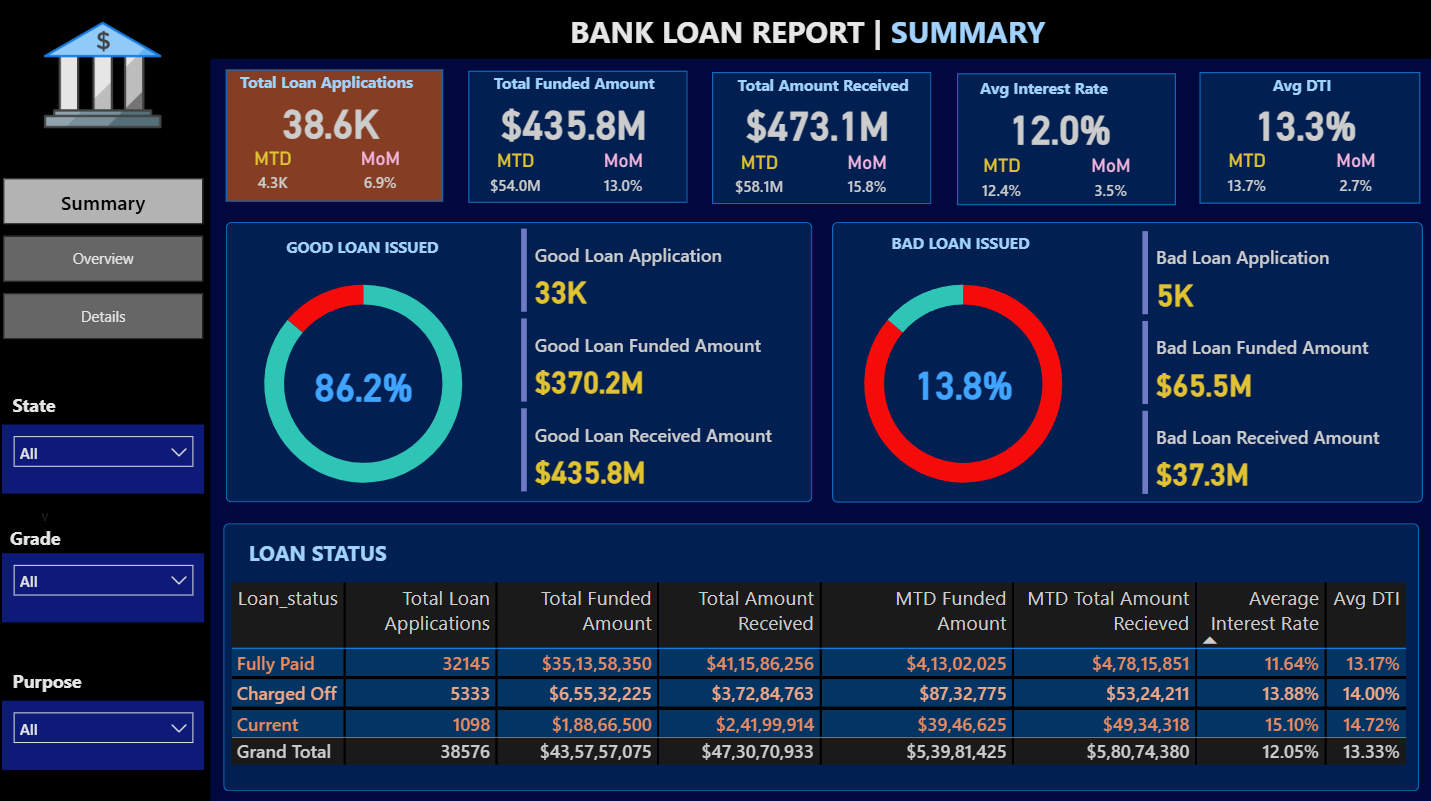

The dashboard page shown, as its layout file describes it:
{"tool":"powerbi","page":{"name":"Summary","canvas":[1280,720],"ordinal":0},"visuals":[{"type":"shape","box":[203.8,64.6,193.8,117.8],"z":0,"group":"g1"},{"type":"shape","box":[419.5,66.3,195.4,117.7],"z":0,"group":"g2"},{"type":"shape","box":[636.6,67.7,195.4,117.7],"z":0,"group":"g3"},{"type":"shape","box":[1071.3,67.7,196.6,117.3],"z":0,"group":"g5"},{"type":"shape","box":[854.5,68.5,195,117.5],"z":0,"group":"g4"},{"type":"shape","box":[203.9,200.3,522.4,249.7],"z":0},{"type":"card","fields":{"Values":["bank_loan_data.Total Loan Applications"]},"box":[227.1,80,140.2,60.1],"z":1000,"group":"g1"},{"type":"card","fields":{"Values":["bank_loan_data.Total Funded Amount"]},"box":[443,81.7,141.4,60],"z":1000,"group":"g2"},{"type":"card","fields":{"Values":["bank_loan_data.Avg DTI"]},"box":[1094.9,83,142.3,59.8],"z":1000,"group":"g5"},{"type":"card","fields":{"Values":["bank_loan_data.Total Amount Received"]},"box":[660.1,83.1,141.4,60],"z":1000,"group":"g3"},{"type":"card","fields":{"Values":["bank_loan_data.Average Interest Rate"]},"box":[876.2,86,141.4,60],"z":1000,"group":"g4"},{"type":"donutChart","fields":{"Category":["bank_loan_data.Good vs Bad Loan"],"Y":["bank_loan_data.Total Loan Applications"]},"box":[201.5,229.2,249.7,230.4],"z":1000},{"type":"shape","box":[0,0,1280,55],"z":2000},{"type":"textbox","box":[211.5,61.2,172.3,35],"z":2000,"group":"g1"},{"type":"textbox","box":[437.4,62.5,173.8,35.4],"z":2000,"group":"g2"},{"type":"textbox","box":[654.5,63.9,173.8,35.4],"z":2000,"group":"g3"},{"type":"textbox","box":[1089.3,63.9,175,35.3],"z":2000,"group":"g5"},{"type":"textbox","box":[870.6,66.8,173.8,35.4],"z":2000,"group":"g4"},{"type":"card","title":"MTD","fields":{"Values":["bank_loan_data.MTD Loan Applications"]},"box":[211.5,133.8,68.2,45],"z":3000,"group":"g1"},{"type":"card","title":"MTD","fields":{"Values":["bank_loan_data.MTD Funded Amount"]},"box":[427.3,135.4,68.8,45],"z":3000,"group":"g2"},{"type":"card","title":"MTD","fields":{"Values":["bank_loan_data.MTD Avg DTI"]},"box":[1079.1,136.6,69.2,44.8],"z":3000,"group":"g5"},{"type":"card","title":"MTD","fields":{"Values":["bank_loan_data.MTD Total Amount Recieved"]},"box":[644.4,136.8,68.8,45],"z":3000,"group":"g3"},{"type":"card","title":"MTD","fields":{"Values":["bank_loan_data.MTD Avg Int Rate"]},"box":[860.5,139.7,68.8,45],"z":3000,"group":"g4"},{"type":"textbox","box":[252.1,208.7,231.6,35],"z":3000},{"type":"shape","box":[0,55,190,665],"z":4000},{"type":"card","title":"MoM","fields":{"Values":["bank_loan_data.MOM Loan Application"]},"box":[309.1,133.9,64.1,44.7],"z":4000,"group":"g1"},{"type":"card","title":"MoM","fields":{"Values":["bank_loan_data.MOM Funded Amount"]},"box":[525.7,135.5,64.6,44.6],"z":4000,"group":"g2"},{"type":"card","title":"MoM","fields":{"Values":["bank_loan_data.MoM Avg DTI"]},"box":[1178.2,136.7,65,44.5],"z":4000,"group":"g5"},{"type":"card","title":"MoM","fields":{"Values":["bank_loan_data.MOM Total Amount Recieved"]},"box":[742.8,136.9,64.6,44.6],"z":4000,"group":"g3"},{"type":"card","title":"MoM","fields":{"Values":["bank_loan_data.MoM Avg Int Rate"]},"box":[958.9,139.8,64.6,44.6],"z":4000,"group":"g4"},{"type":"textbox","box":[505,7.5,442.5,47.5],"z":5000},{"type":"group","id":"g1","title":"Group 1","box":[203.8,61.2,193.8,121.2],"z":6000},{"type":"card","fields":{"Values":["bank_loan_data.Good Loan %"]},"box":[255.8,318.5,141.2,53.1],"z":7000},{"type":"group","id":"g2","title":"Group 1","box":[419.5,62.5,195,121.7],"z":8000},{"type":"group","id":"g3","title":"Group 1","box":[636.6,63.9,195.8,121.7],"z":9000},{"type":"group","id":"g4","title":"Group 1","box":[854.5,66.8,195,119.2],"z":10000},{"type":"group","id":"g5","title":"Group 1","box":[1071.3,63.9,196.6,120.6],"z":11000},{"type":"shape","box":[743.8,200,526.2,250],"z":12000},{"type":"cardVisual","fields":{"Data":["bank_loan_data.Good Loan Application","bank_loan_data.Good Loan Funded Amount","bank_loan_data.Good Loan Received Amount"]},"box":[462.1,201.5,264.3,246.2],"z":13000},{"type":"donutChart","fields":{"Category":["bank_loan_data.Good vs Bad Loan"],"Y":["bank_loan_data.Total Loan Applications"]},"box":[736.1,229.3,249.8,230.5],"z":14000},{"type":"textbox","box":[791.6,205.1,231.7,35],"z":15000},{"type":"card","fields":{"Values":["bank_loan_data.Bad Loan %"]},"box":[790.3,317.3,141.2,53.1],"z":16000},{"type":"cardVisual","fields":{"Data":["bank_loan_data.Bad Loan Application","bank_loan_data.Bad Loan Funded Amount","bank_loan_data.Bad Loan Received Amount"]},"box":[1015,203.8,250,246.2],"z":17000},{"type":"shape","box":[201.2,468.8,1065,238.8],"z":18000},{"type":"tableEx","fields":{"Values":["bank_loan_data.loan_status","bank_loan_data.Total Loan Applications","bank_loan_data.Total Funded Amount","bank_loan_data.Total Amount Received","bank_loan_data.MTD Funded Amount","bank_loan_data.MTD Total Amount Recieved","bank_loan_data.Average Interest Rate","bank_loan_data.Avg DTI"]},"box":[202.5,516.2,1068.8,180],"z":19000},{"type":"textbox","box":[35,447.5,231.2,35],"z":20000},{"type":"textbox","box":[218.8,477.5,163.8,35],"z":21000},{"type":"slicer","fields":{"Values":["bank_loan_data.address_state"]},"box":[5,381.2,180,61.2],"z":22000},{"type":"textbox","box":[8.8,347.5,160,43.8],"z":23000},{"type":"slicer","fields":{"Values":["bank_loan_data.grade"]},"box":[5,495,180,61.2],"z":24000},{"type":"slicer","fields":{"Values":["bank_loan_data.purpose"]},"box":[5,626.2,180,61.2],"z":25000},{"type":"textbox","box":[8.8,593.8,160,43.8],"z":26000},{"type":"textbox","box":[6.2,465,160,43.8],"z":27000},{"type":"image","box":[35,12.1,119.4,114.6],"z":28000},{"type":"pageNavigator","box":[6,161.7,178.6,146],"z":29000}]}

Visuals, with their boxes in screenshot pixels (x1, y1, x2, y2), scaled from the page's 1280x720 canvas onto the 1431x801 screenshot:
shape: box=[228, 72, 445, 203]
shape: box=[469, 74, 687, 205]
shape: box=[712, 75, 930, 206]
shape: box=[1198, 75, 1417, 206]
shape: box=[955, 76, 1173, 207]
shape: box=[228, 223, 812, 501]
card - bank_loan_data.Total Loan Applications: box=[254, 89, 411, 156]
card - bank_loan_data.Total Funded Amount: box=[495, 91, 653, 158]
card - bank_loan_data.Avg DTI: box=[1224, 92, 1383, 159]
card - bank_loan_data.Total Amount Received: box=[738, 92, 896, 159]
card - bank_loan_data.Average Interest Rate: box=[980, 96, 1138, 162]
donutChart - bank_loan_data.Good vs Bad Loan x bank_loan_data.Total Loan Applications: box=[225, 255, 504, 511]
shape: box=[0, 0, 1430, 61]
textbox: box=[236, 68, 429, 107]
textbox: box=[489, 70, 683, 109]
textbox: box=[732, 71, 926, 110]
textbox: box=[1218, 71, 1413, 110]
textbox: box=[973, 74, 1168, 114]
"MTD" card: box=[236, 149, 313, 199]
"MTD" card: box=[478, 151, 555, 201]
"MTD" card: box=[1206, 152, 1284, 202]
"MTD" card: box=[720, 152, 797, 202]
"MTD" card: box=[962, 155, 1039, 205]
textbox: box=[282, 232, 541, 271]
shape: box=[0, 61, 212, 800]
"MoM" card: box=[346, 149, 417, 199]
"MoM" card: box=[588, 151, 660, 200]
"MoM" card: box=[1317, 152, 1390, 202]
"MoM" card: box=[830, 152, 903, 202]
"MoM" card: box=[1072, 156, 1144, 205]
textbox: box=[565, 8, 1059, 61]
"Group 1" group: box=[228, 68, 445, 203]
card - bank_loan_data.Good Loan %: box=[286, 354, 444, 413]
"Group 1" group: box=[469, 70, 687, 205]
"Group 1" group: box=[712, 71, 931, 206]
"Group 1" group: box=[955, 74, 1173, 207]
"Group 1" group: box=[1198, 71, 1417, 205]
shape: box=[832, 222, 1420, 501]
cardVisual - bank_loan_data.Good Loan Application x bank_loan_data.Good Loan Funded Amount: box=[517, 224, 812, 498]
donutChart - bank_loan_data.Good vs Bad Loan x bank_loan_data.Total Loan Applications: box=[823, 255, 1102, 512]
textbox: box=[885, 228, 1144, 267]
card - bank_loan_data.Bad Loan %: box=[884, 353, 1041, 412]
cardVisual - bank_loan_data.Bad Loan Application x bank_loan_data.Bad Loan Funded Amount: box=[1135, 227, 1414, 501]
shape: box=[225, 522, 1416, 787]
tableEx - bank_loan_data.loan_status x bank_loan_data.Total Loan Applications: box=[226, 574, 1421, 775]
textbox: box=[39, 498, 298, 537]
textbox: box=[245, 531, 428, 570]
slicer - bank_loan_data.address_state: box=[6, 424, 207, 492]
textbox: box=[10, 387, 189, 435]
slicer - bank_loan_data.grade: box=[6, 551, 207, 619]
slicer - bank_loan_data.purpose: box=[6, 697, 207, 765]
textbox: box=[10, 661, 189, 709]
textbox: box=[7, 517, 186, 566]
image: box=[39, 13, 173, 141]
pageNavigator: box=[7, 180, 206, 342]
